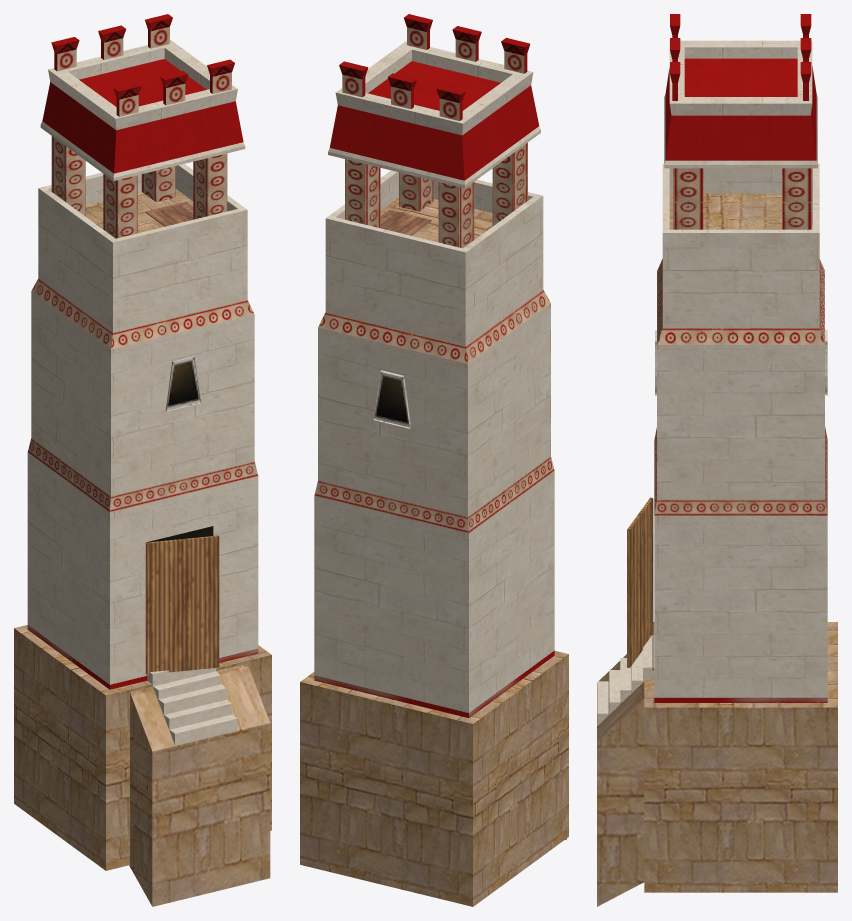
The model's file is stone_tower.dae.
3 renders of one model, left to right at view 1: azimuth 30°, elevation 25°; view 2: azimuth 150°, elevation 25°; view 3: azimuth 270°, elevation 25°, orthographic. The views are drawn at different scales.
Visible parts, largest first — view 1: tower_stone; view 2: tower_stone; view 3: tower_stone.
Part boxes in pixels (box(x1,y1,x2,y2)): tower_stone: box(14, 14, 271, 906); tower_stone: box(300, 14, 568, 906); tower_stone: box(597, 14, 837, 906).
Bounding box in the file's own units: 5.84 × 6.97 × 26.57.
